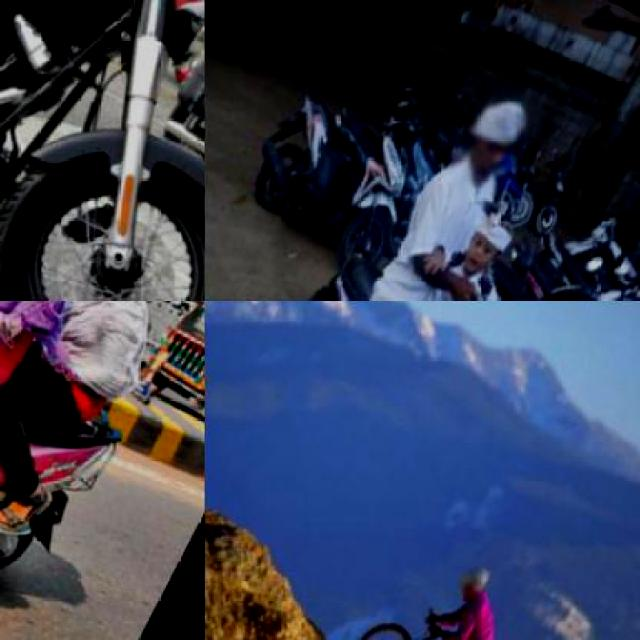With Helmet: (455, 558, 497, 602)
Without Helmet: (444, 75, 548, 198), (452, 197, 532, 292)
